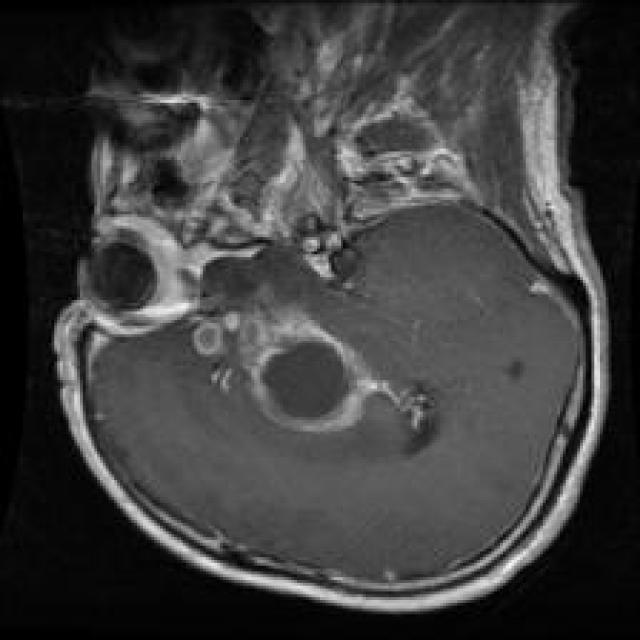glioma_tumor: (179, 301, 445, 459)
